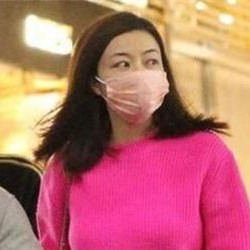mask: (96, 67, 170, 126)
